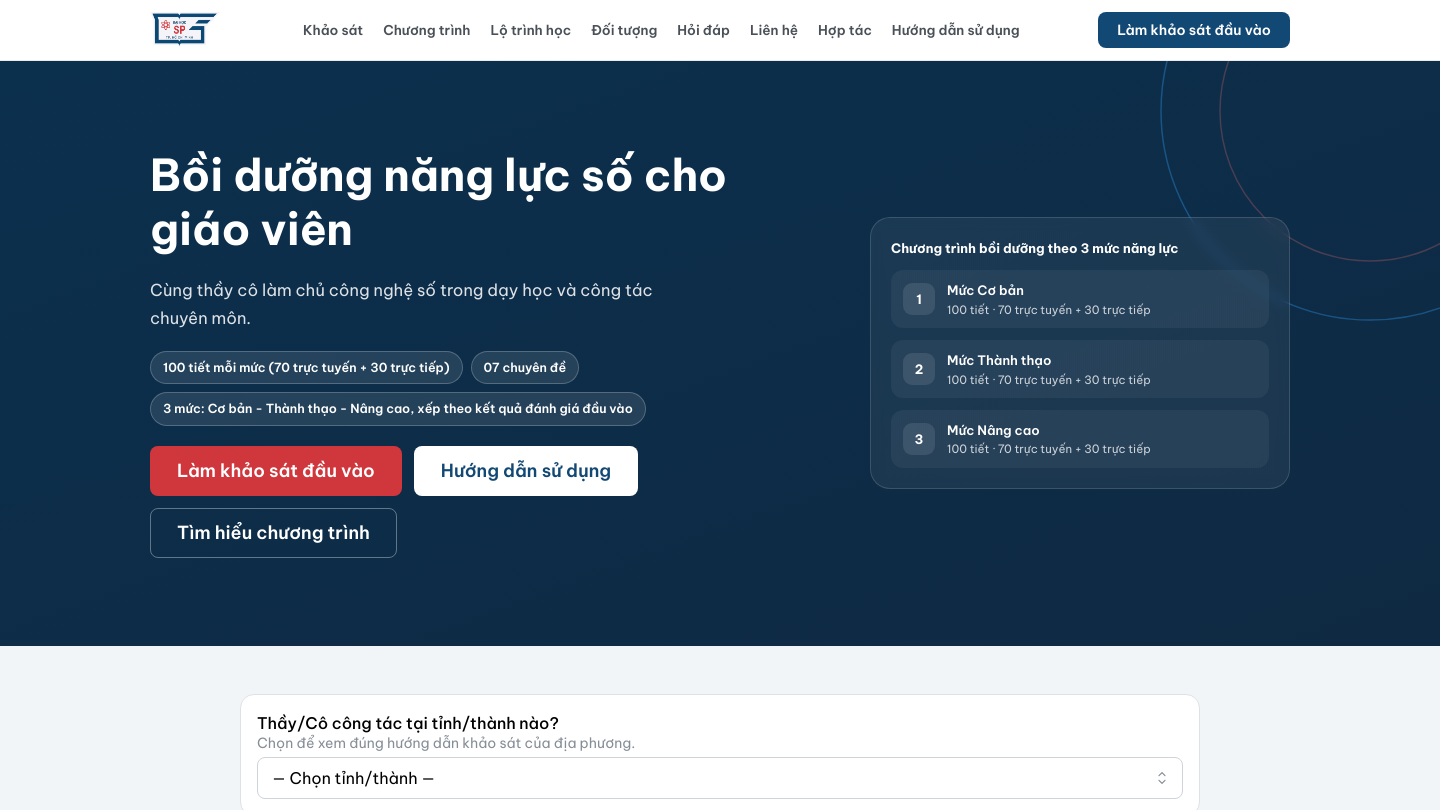
M0 — chọn tỉnh/thành (cấu hình khảo sát theo khóa, 2026-10-02) › chọn tỉnh -> hiện phiếu của khóa gắn tỉnh đó, link cập nhật ?tinh=; bỏ chọn -> về cấu hình chung
The image size is (1440, 810).
Select "Tỉnh Thử" in the dropdown labelled "Thầy/Cô công tác tại tỉnh/thành nào?": (720, 778) [257, 757, 1183, 799]
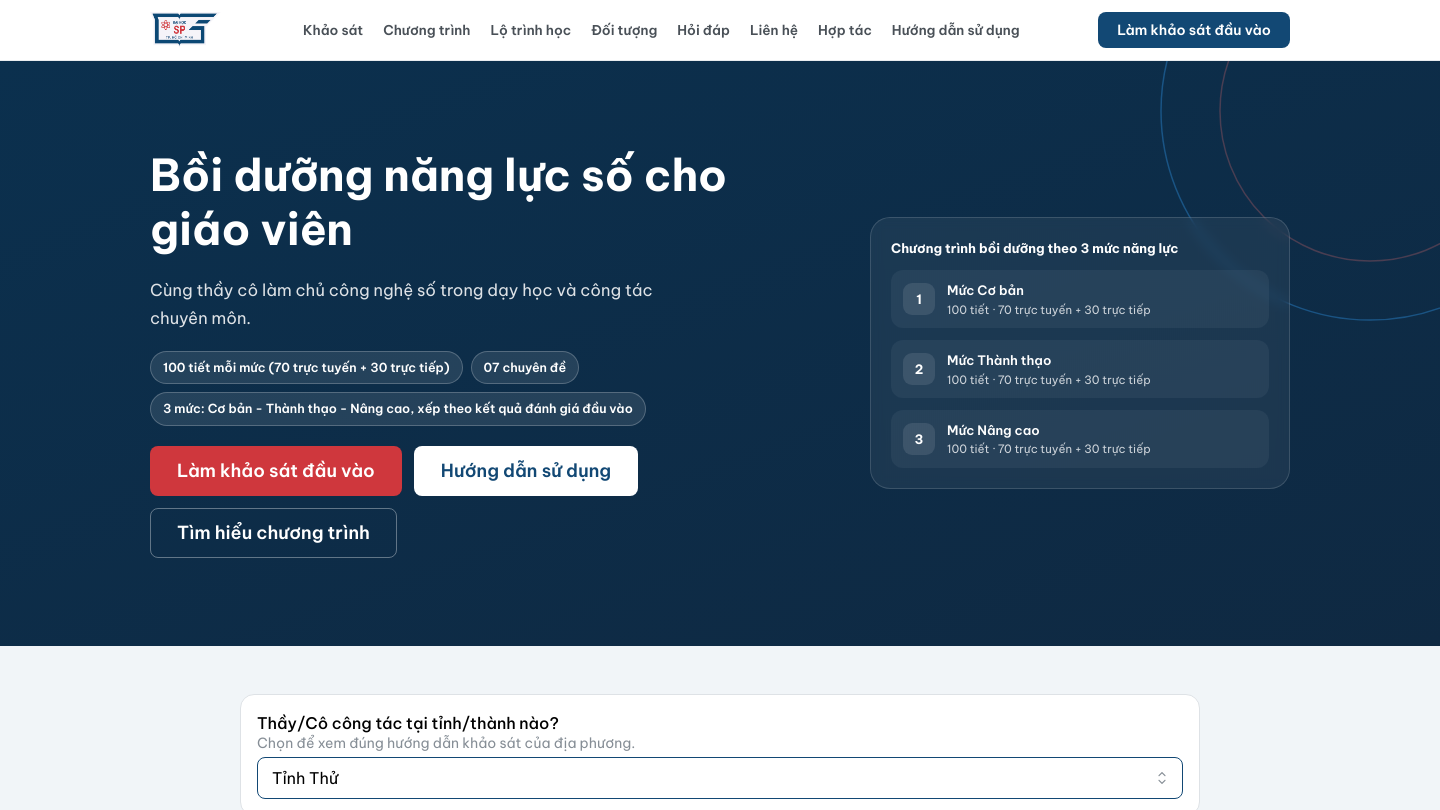
Select "— Chọn tỉnh/thành —" in the dropdown labelled "Thầy/Cô công tác tại tỉnh/thành nào?": (720, 778) [257, 757, 1183, 799]
(page scrolled)
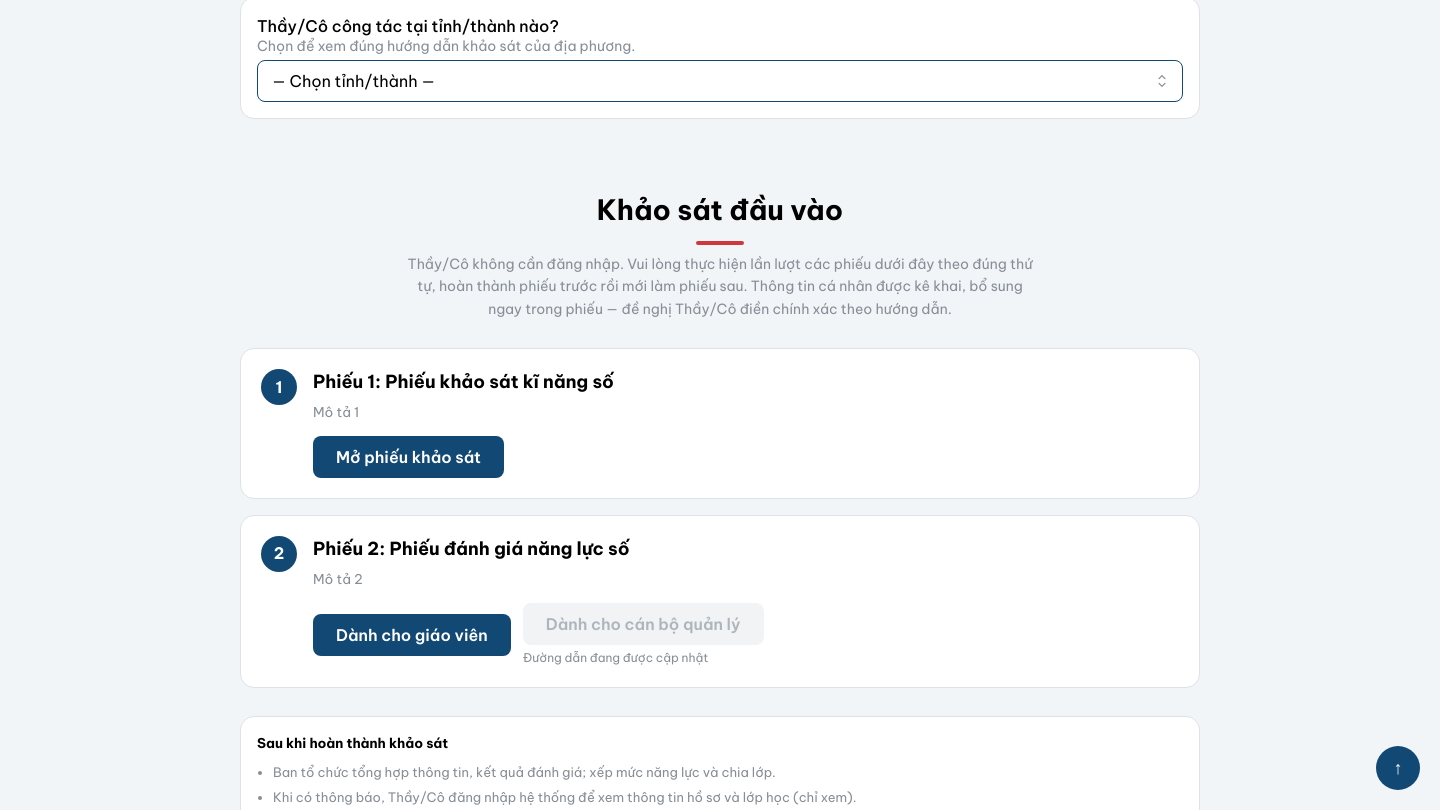
Now the heading "Phiếu 1: Phiếu khảo sát kĩ năng số" is shown, box [313, 370, 614, 393]
